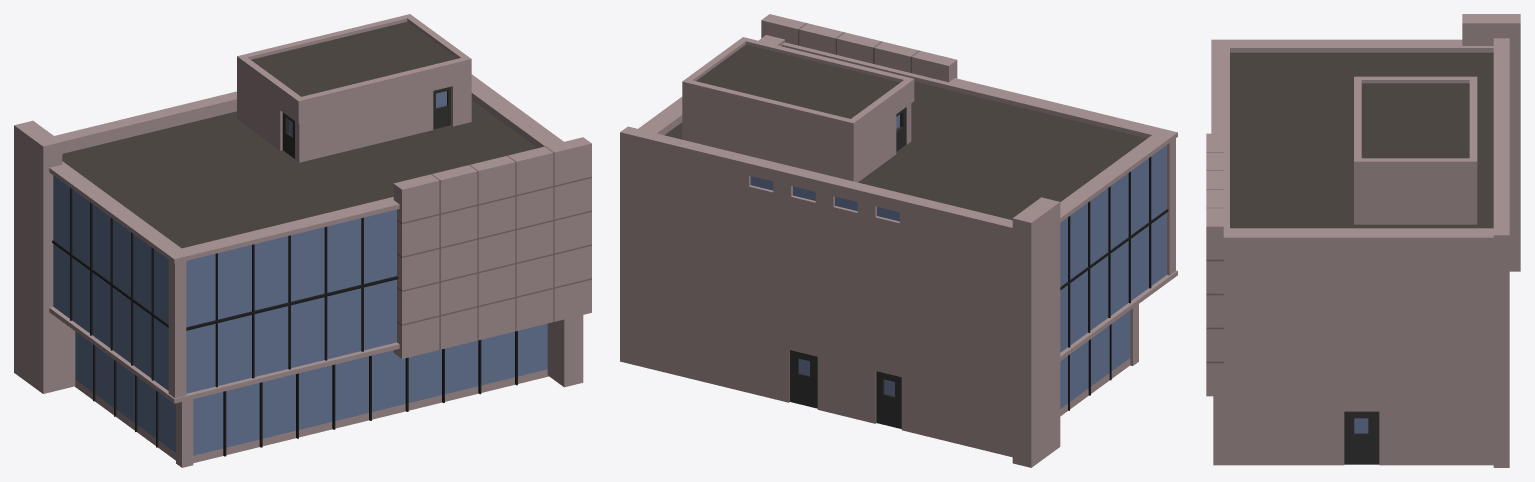
File: Supermarket_03.fbx
3 views of the same model, side by side, from view 1: azimuth 30°, elevation 25°; view 2: azimuth 150°, elevation 25°; view 3: azimuth 270°, elevation 25° (orthographic).
Parts seen in each view (by area): view 1: Supermarket_03; view 2: Supermarket_03; view 3: Supermarket_03.
Boxes of the visible parts, x1,y1,x2,y2 form: Supermarket_03: [14, 14, 591, 467]; Supermarket_03: [620, 14, 1177, 467]; Supermarket_03: [1206, 14, 1520, 467].
Size of the model in its own units: 20.62 by 13.3 by 13.28.
